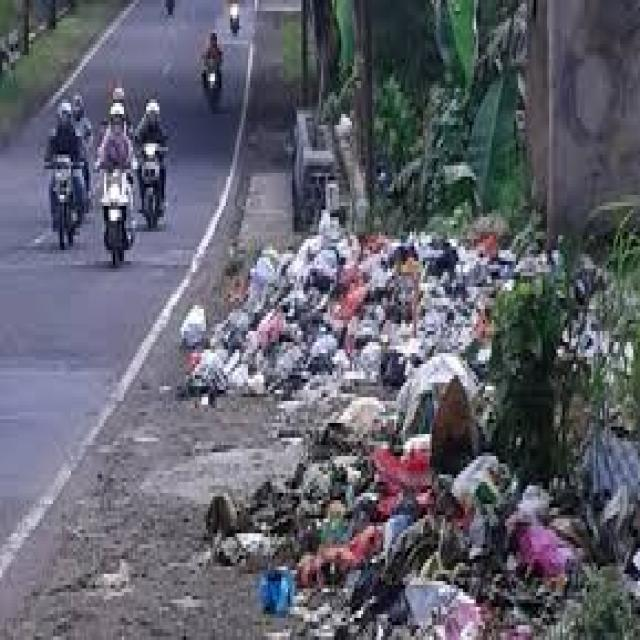trash: (195, 217, 638, 640)
